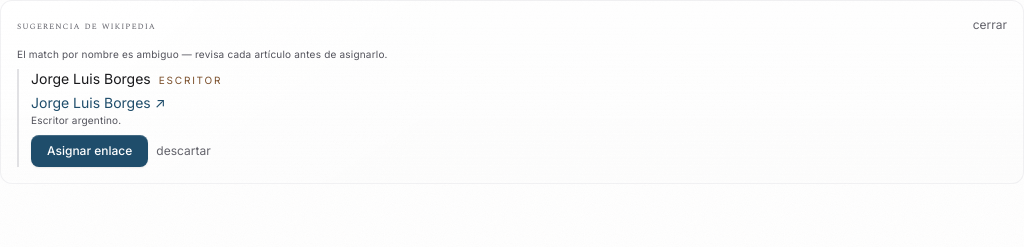
Test: <WikipediaSuggestPanel /> › muestra error y mantiene la sugerencia si falla la asignación
Step 1. Click the button "Asignar enlace" → coordinates (90, 151), box x1=31 y1=135 x2=148 y2=167
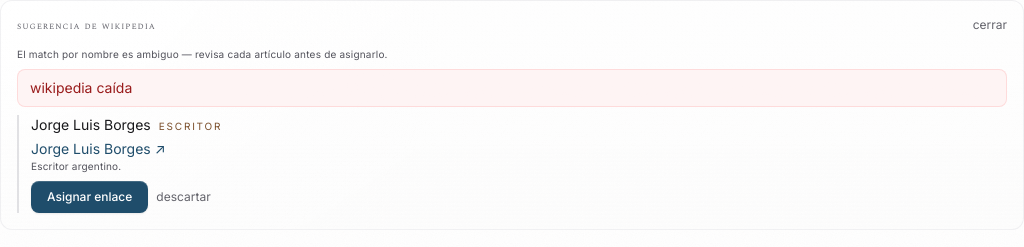
Expected: the text "Jorge Luis Borges" is shown, x1=31 y1=115 x2=151 y2=135
Expected: the text "wikipedia caída" is shown, x1=17 y1=69 x2=1007 y2=107
